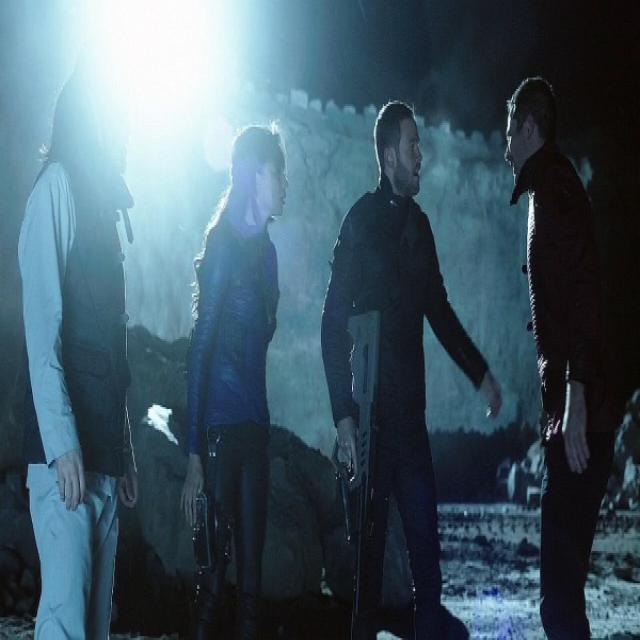rifle: (340, 296, 387, 622)
